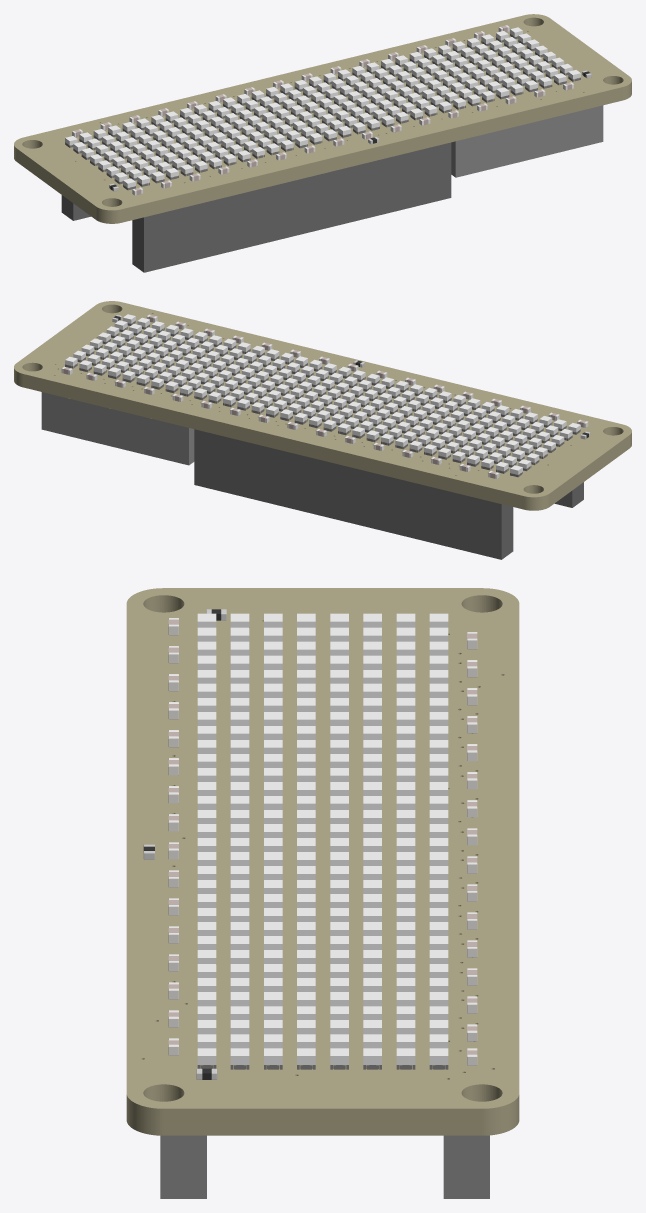
File: unit_3d_ue0118_v_1_0_0_pulsar_ws2812b_shield.glb
3 renders of one model, top to bottom at view 1: azimuth 30°, elevation 25°; view 2: azimuth 150°, elevation 25°; view 3: azimuth 270°, elevation 25°, orthographic. The views are drawn at different scales.
Visible parts, largest first — view 1: Node5, Node6, Node4, Node14, Node7, Node9, Node10, Node15; view 2: Node5, Node6, Node4, Node14, Node7, Node9, Node10, Node15; view 3: Node5, Node6, Node7, Node9, Node10.
Boxes of the visible parts, left/top/right/bottom form: Node5: left=14, top=14, right=631, bottom=223; Node6: left=65, top=27, right=580, bottom=187; Node4: left=61, top=142, right=451, bottom=272; Node14: left=65, top=34, right=580, bottom=190; Node7: left=451, top=105, right=603, bottom=177; Node9: left=72, top=25, right=573, bottom=195; Node10: left=74, top=25, right=571, bottom=195; Node15: left=65, top=34, right=578, bottom=187; Node5: left=14, top=301, right=631, bottom=510; Node6: left=65, top=314, right=580, bottom=474; Node4: left=194, top=429, right=583, bottom=559; Node14: left=65, top=320, right=580, bottom=477; Node7: left=41, top=392, right=194, bottom=465; Node9: left=61, top=314, right=588, bottom=478; Node10: left=63, top=315, right=585, bottom=478; Node15: left=67, top=321, right=580, bottom=474; Node5: left=126, top=588, right=519, bottom=1135; Node6: left=197, top=613, right=448, bottom=1064; Node7: left=160, top=1135, right=489, bottom=1198; Node9: left=168, top=618, right=477, bottom=1065; Node10: left=168, top=619, right=477, bottom=1054.
Bounding box in the file's own units: 66.13 × 9.9 × 21.08.
